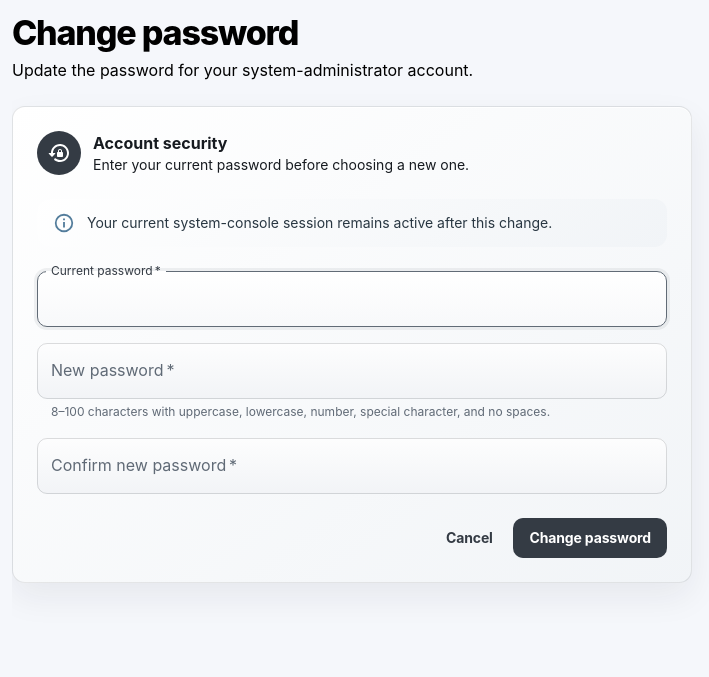
Test: SystemChangePasswordPage › submits the exact current and new passwords and keeps the session active
The image size is (709, 677).
Type "Current@123" into the password field labelled "Current password *" at (352, 299), box top-left (37, 271), bottom-right (667, 327)
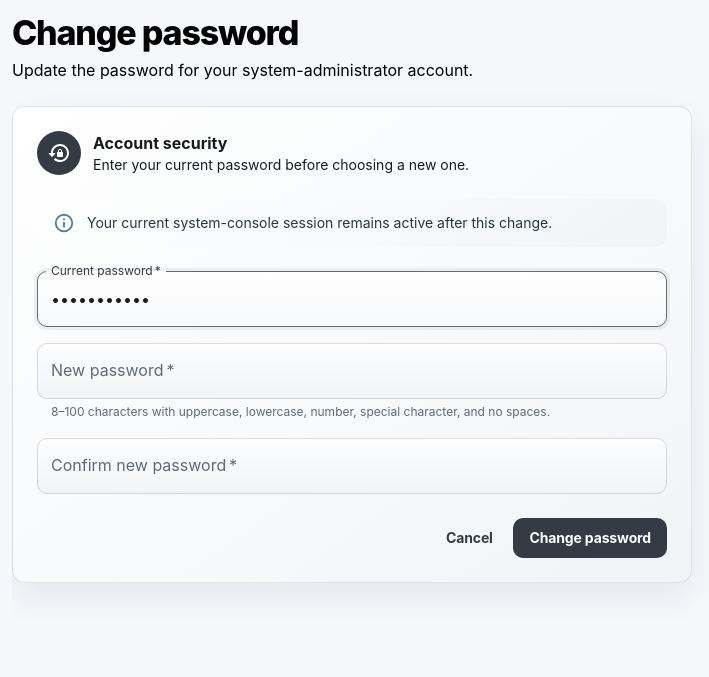
Type "Stronger@456" into the password field labelled "New password *" at (352, 371), box top-left (37, 343), bottom-right (667, 399)
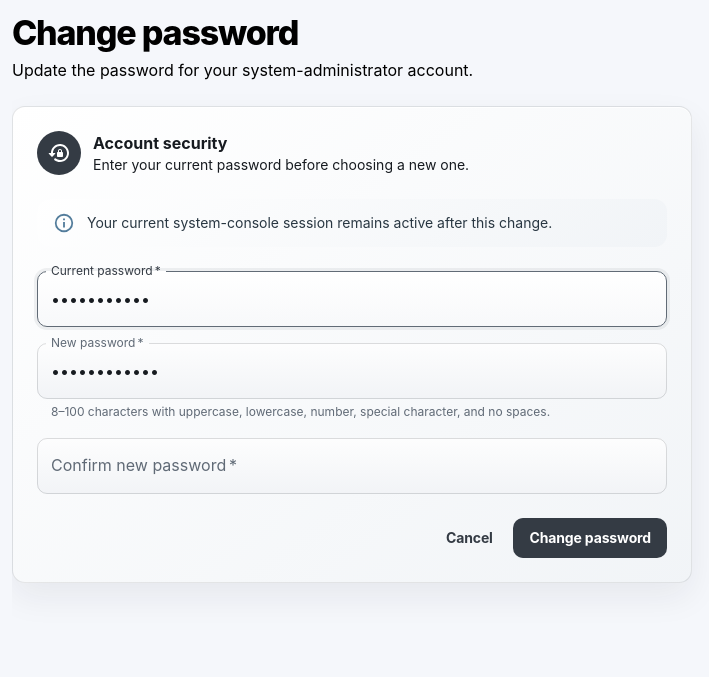
Type "Stronger@456" into the password field labelled "Confirm new password *" at (352, 466), box top-left (37, 438), bottom-right (667, 494)
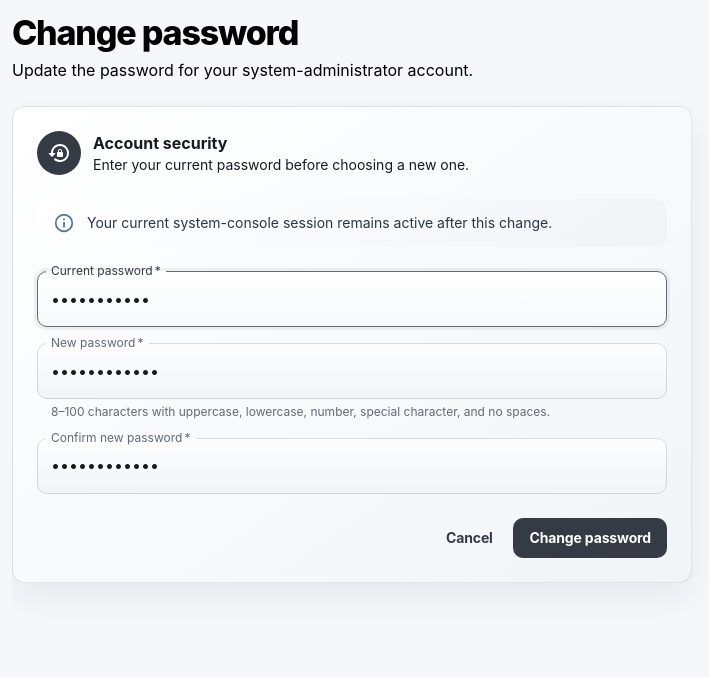
Click the button "Change password" at (590, 538), box top-left (513, 518), bottom-right (667, 558)
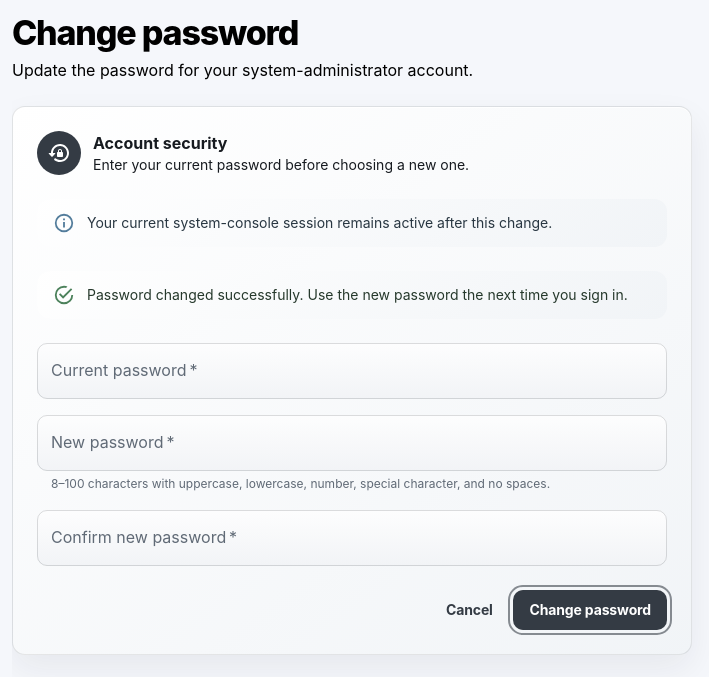
Expected: the text "current system-console session remains active" is shown, top-left (87, 214), bottom-right (552, 231)
Expected: the text "Password changed successfully" is shown, top-left (87, 286), bottom-right (628, 303)
Expected: the password field labelled "Current password *" is empty, top-left (37, 343), bottom-right (667, 399)
